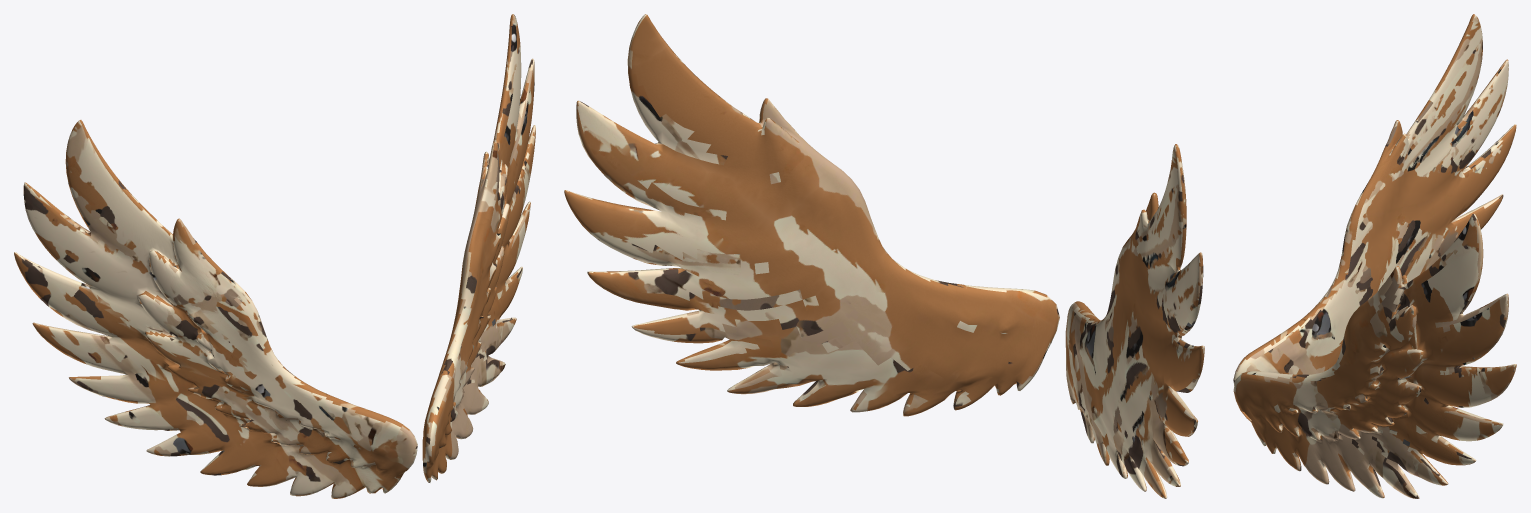
File: wings.fbx
The picture shows the model from 3 angles, left to right: view 1: azimuth 30°, elevation 25°; view 2: azimuth 150°, elevation 25°; view 3: azimuth 270°, elevation 25°; orthographic projection. The views are drawn at different scales.
Parts seen in each view (by area): view 1: tripo_node_c5672a71; view 2: tripo_node_c5672a71; view 3: tripo_node_c5672a71.
Boxes of the visible parts, x1=… form: tripo_node_c5672a71: x1=14, y1=14, x2=535, y2=498; tripo_node_c5672a71: x1=564, y1=14, x2=1204, y2=498; tripo_node_c5672a71: x1=1233, y1=14, x2=1516, y2=498.
Bounding box in the file's own units: 0.9783 × 0.6306 × 0.4866.
